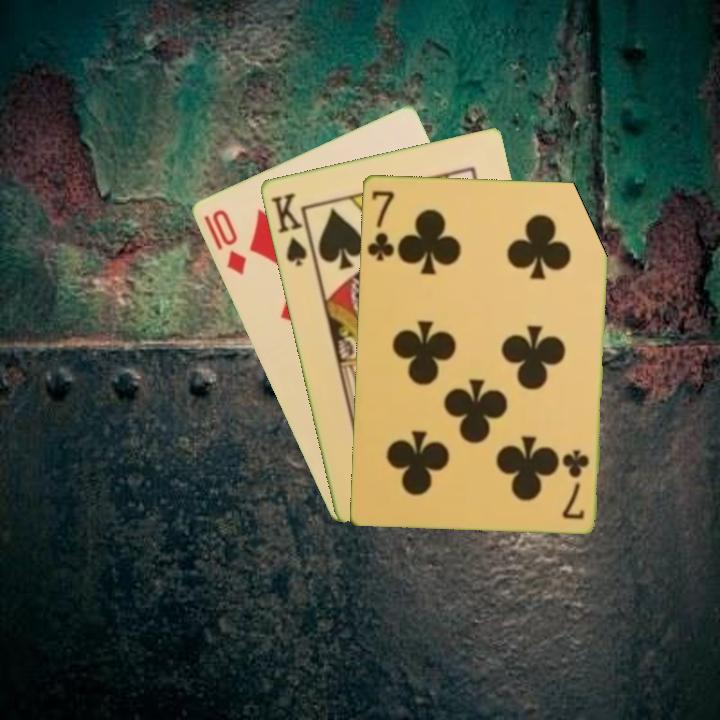10d: (208, 205, 249, 278)
7c: (363, 186, 397, 263), (558, 445, 592, 522)
Ks: (267, 189, 309, 269)
